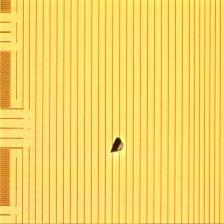PARTICLE: (109, 137, 126, 155)
